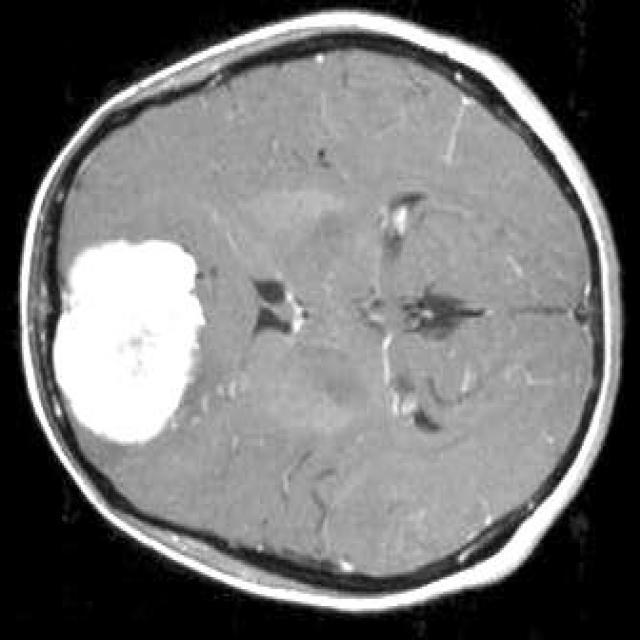tumor: (51, 240, 206, 446)
